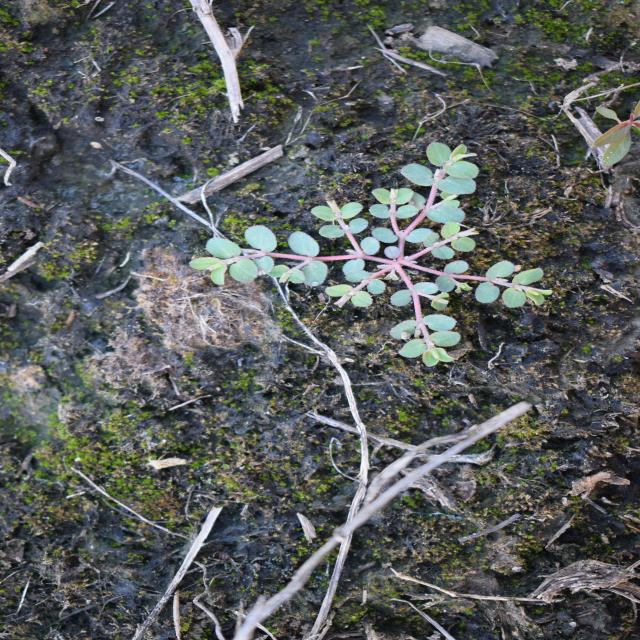SpottedSpurge: (186, 142, 557, 368)
